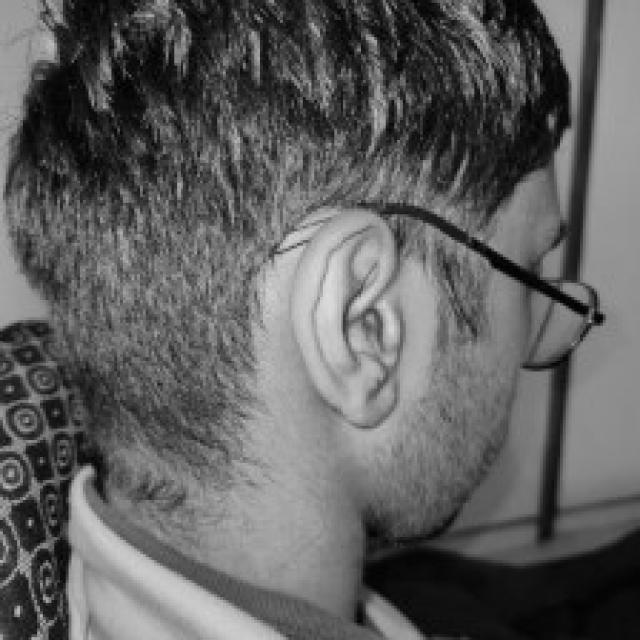ear: (291, 206, 400, 420)
